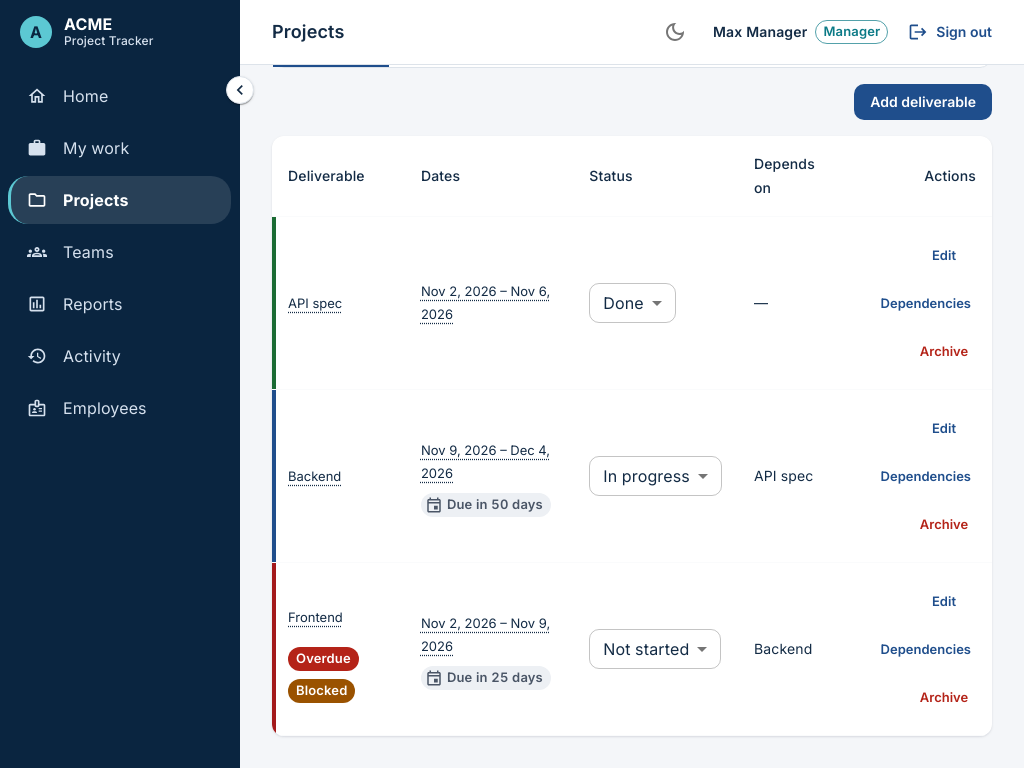
it: Deliverable edit › starting it while a dependency is open is refused and names the open one
(page scrolled)
Click the button with aria-label "Edit Frontend": click(944, 601) [912,579,976,623]
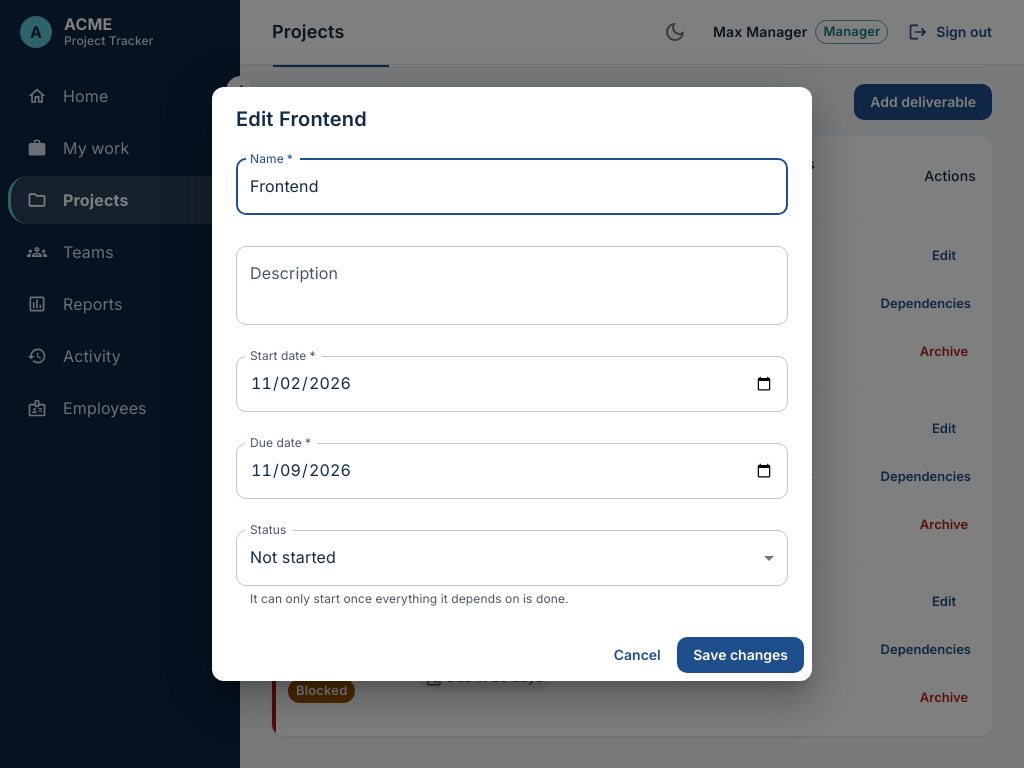
Click the dropdown named "status": click(293, 557) [250,547,336,567]
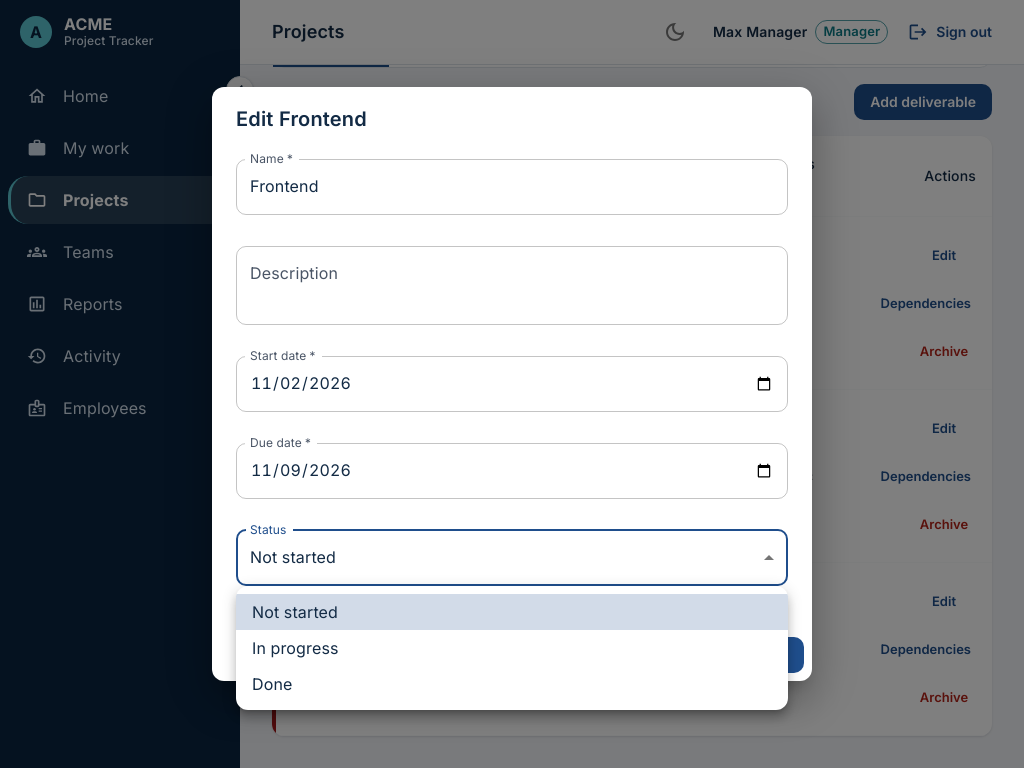
Click the option "In progress": click(295, 648) [252,638,339,658]
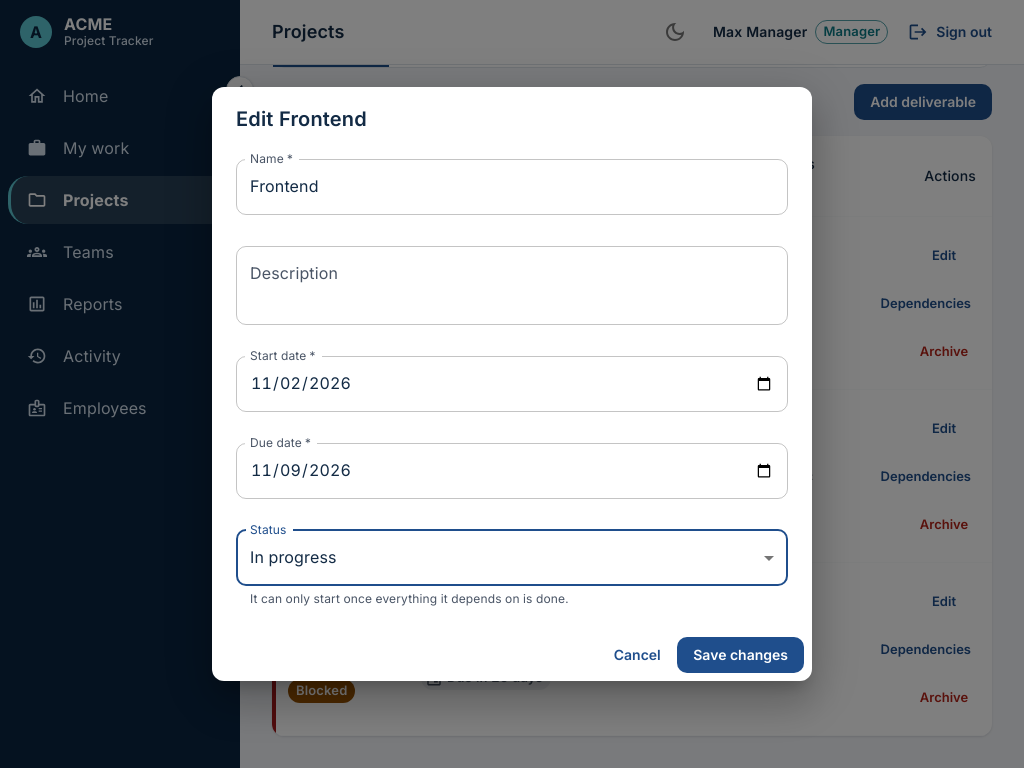
Click the button "Save changes": click(741, 655) [677,636,804,673]
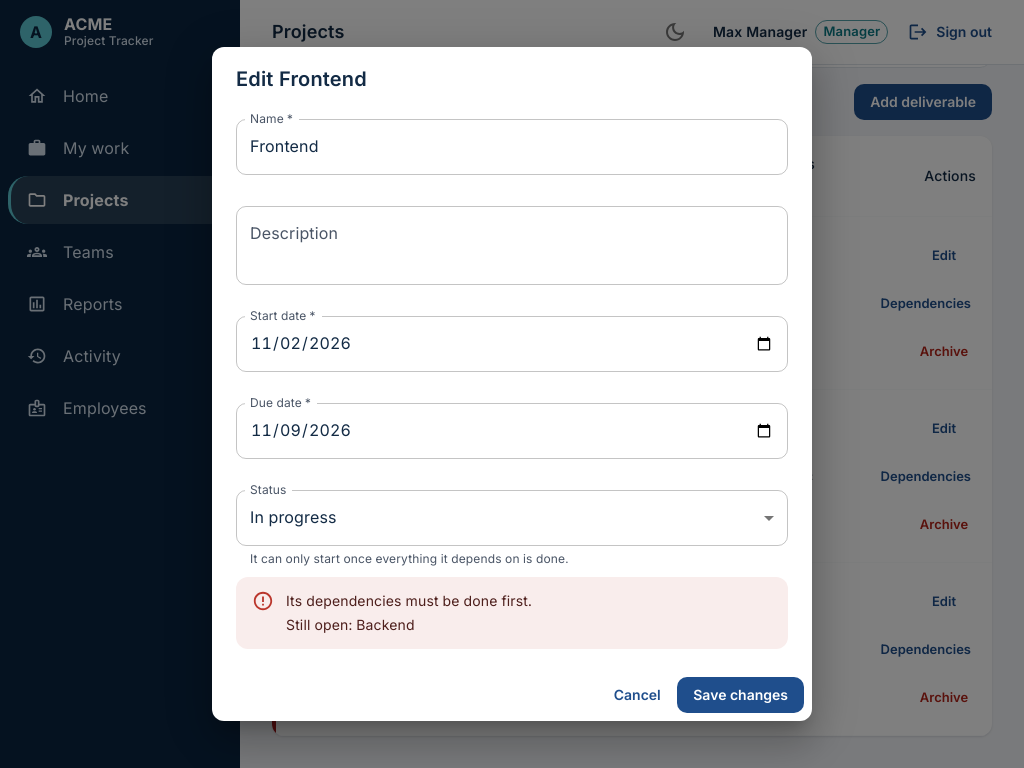
Now the text "Its dependencies must be done first." is shown, box [286,592,532,608]
Now the text "Still open: Backend" is shown, box [286,616,415,632]
